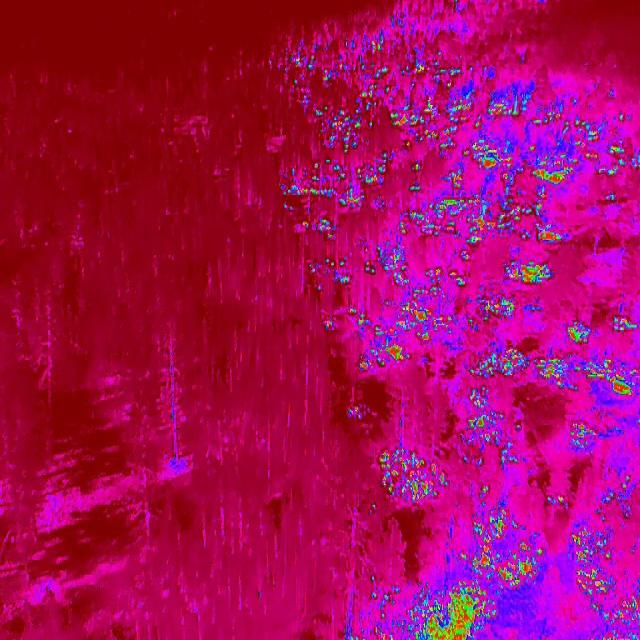fire: (276, 32, 476, 152), (470, 294, 640, 404), (460, 97, 638, 185), (400, 164, 564, 250), (349, 262, 466, 376), (281, 152, 394, 242), (366, 585, 501, 640), (460, 511, 542, 589), (371, 444, 452, 514), (566, 522, 613, 598), (558, 414, 638, 458), (360, 237, 422, 284), (589, 593, 640, 633), (502, 258, 558, 290), (307, 258, 359, 288), (454, 406, 506, 435), (544, 488, 572, 511), (344, 401, 366, 423)
